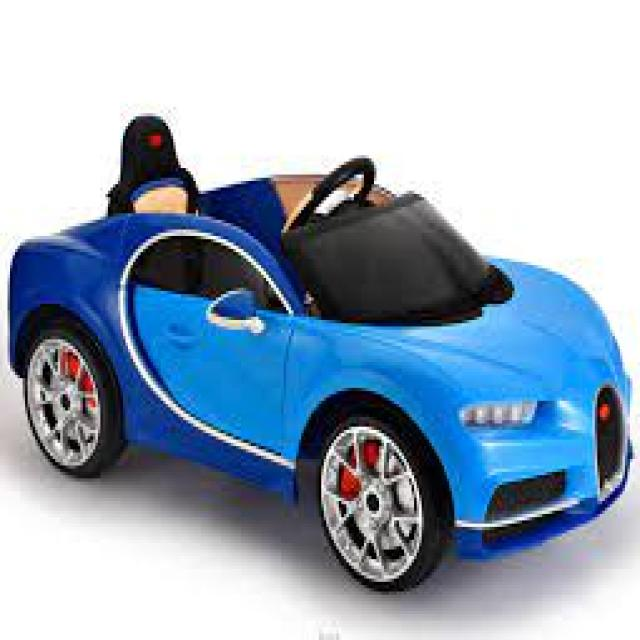Car: (5, 152, 635, 591)
